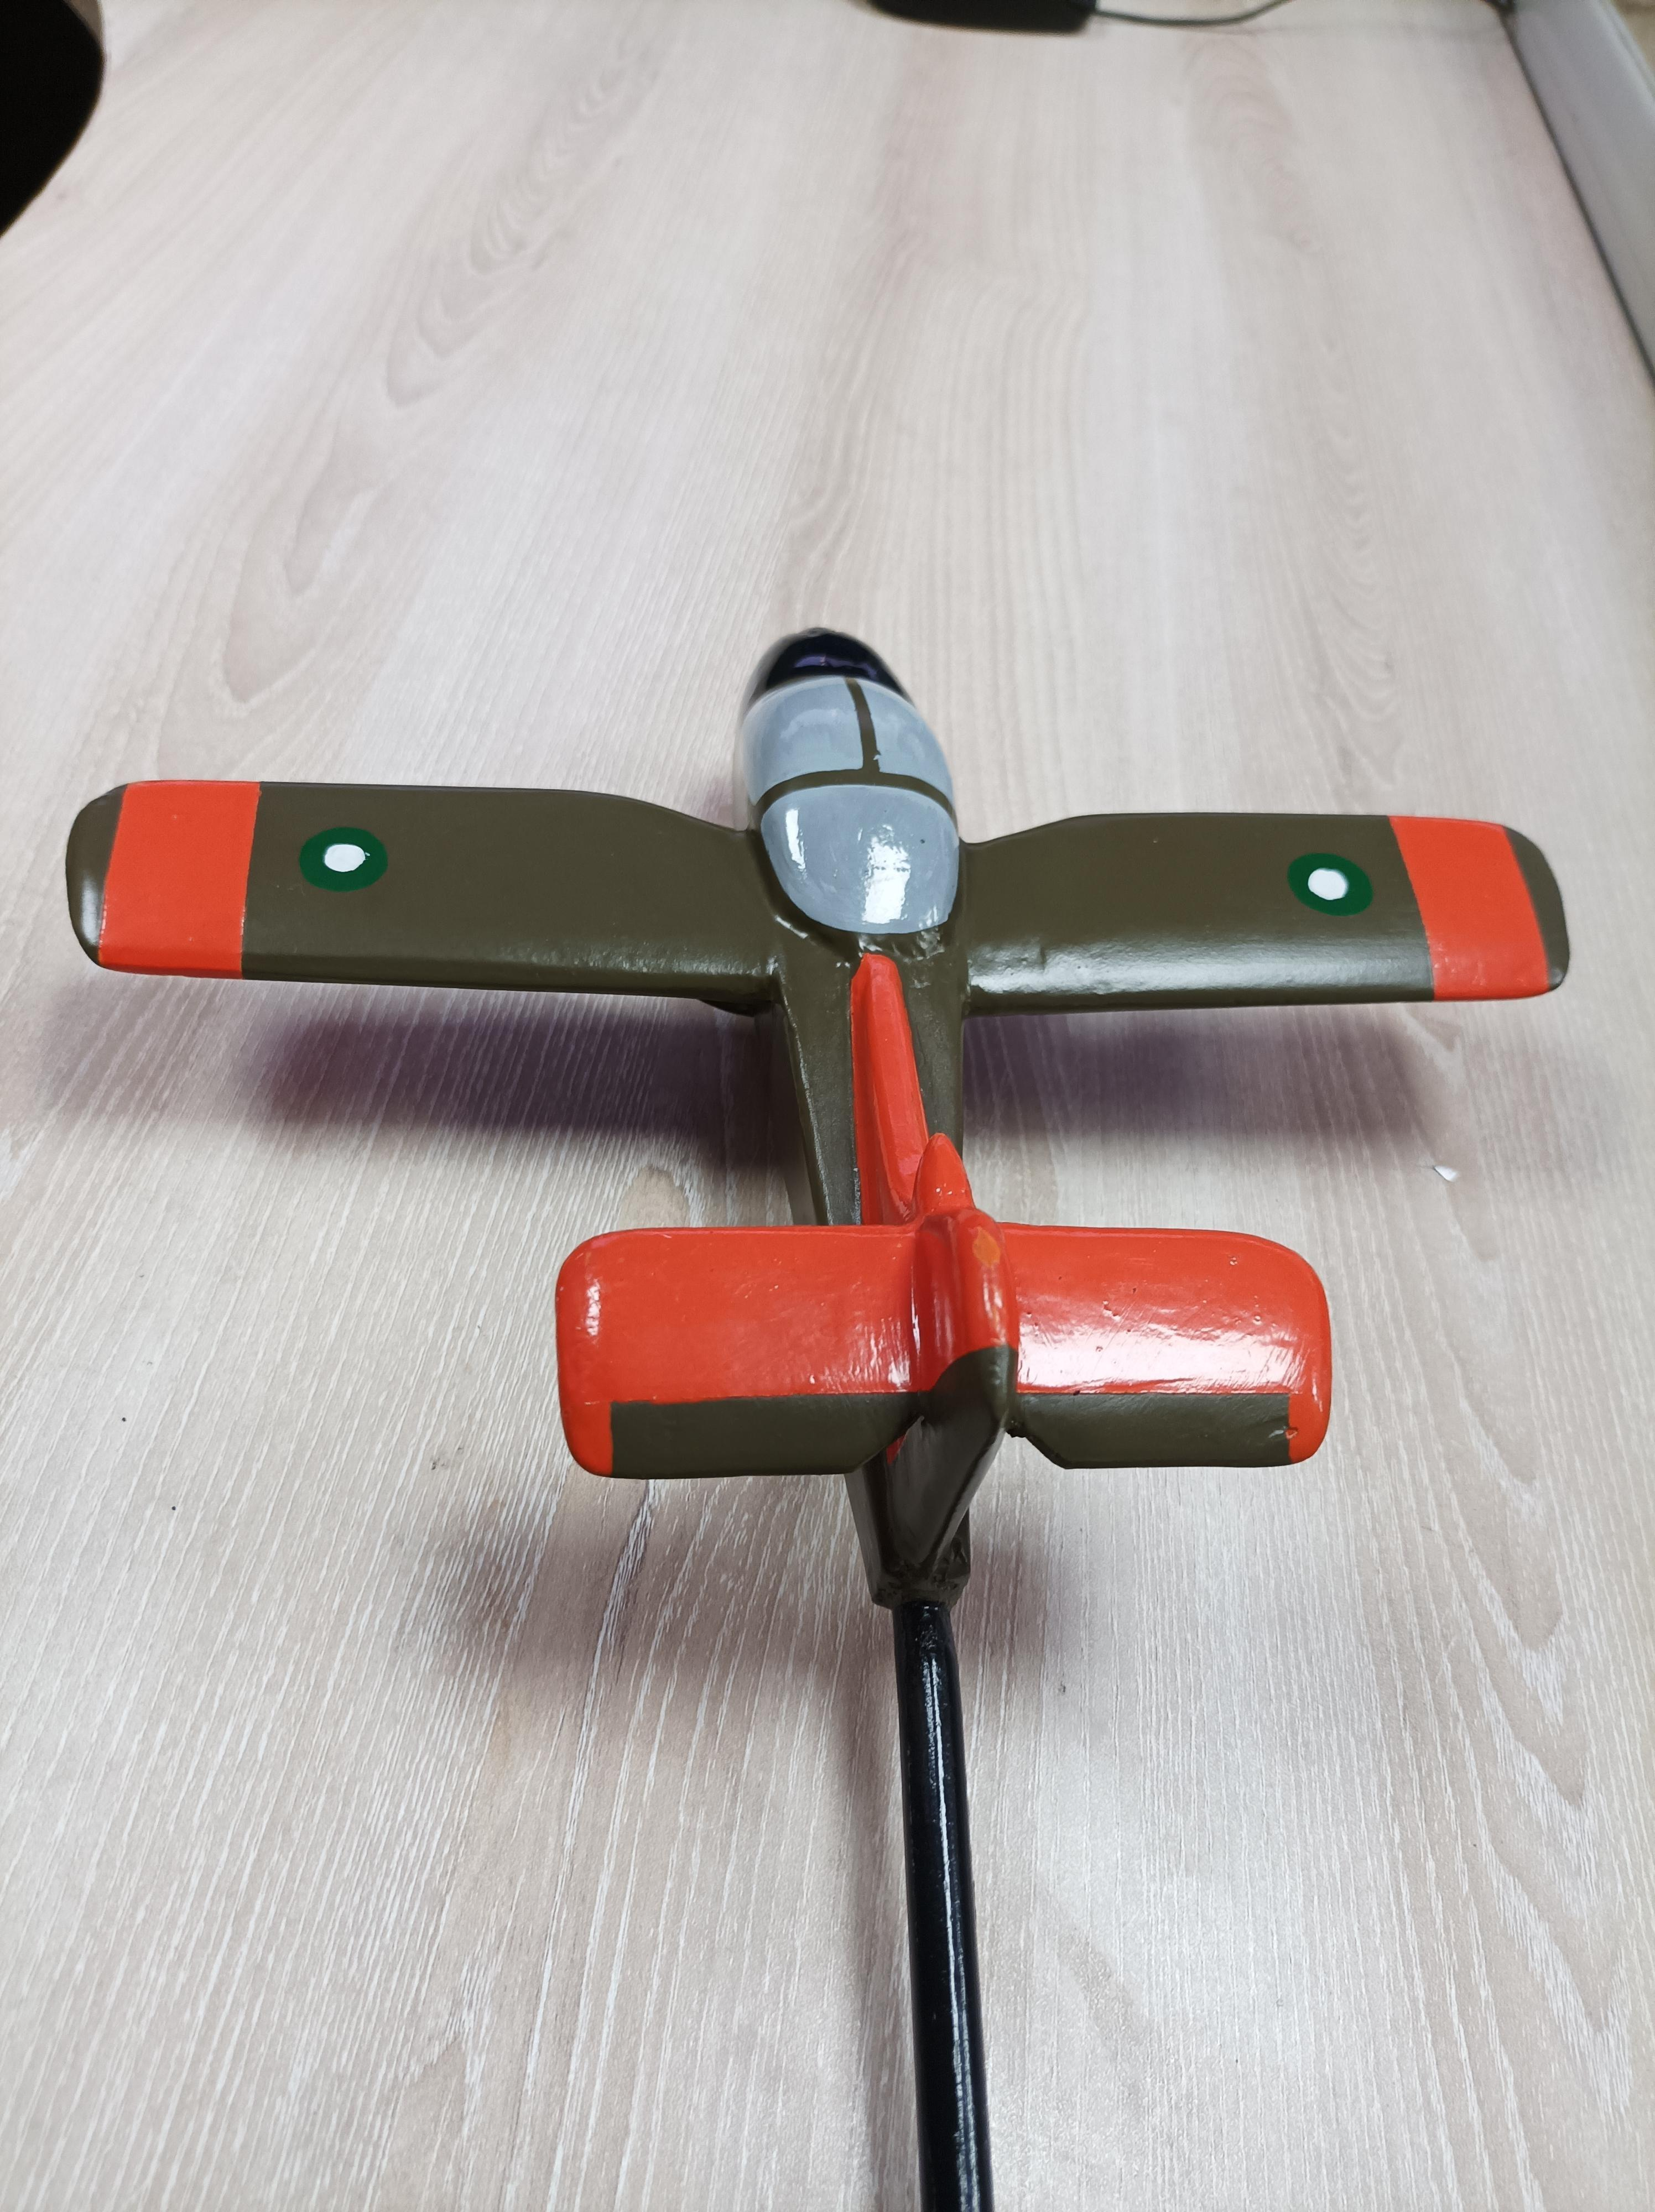Airplane: (37, 586, 1591, 1515)
